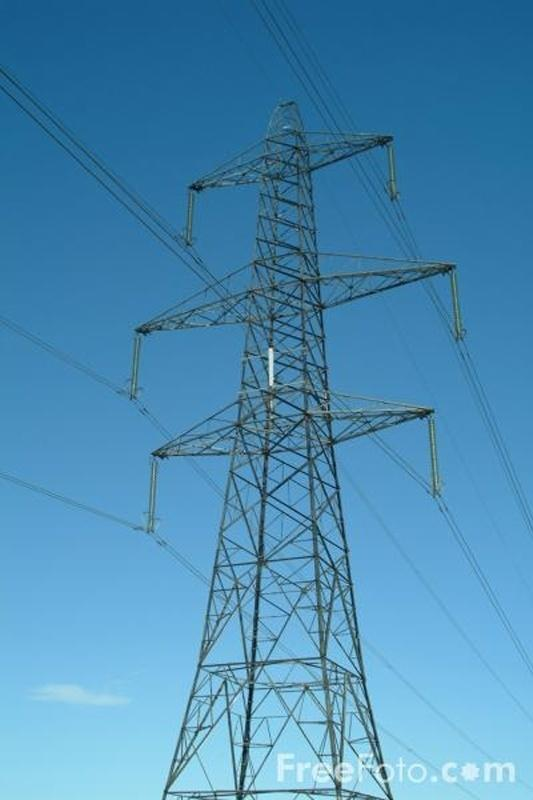power_tower: (121, 76, 460, 795)
